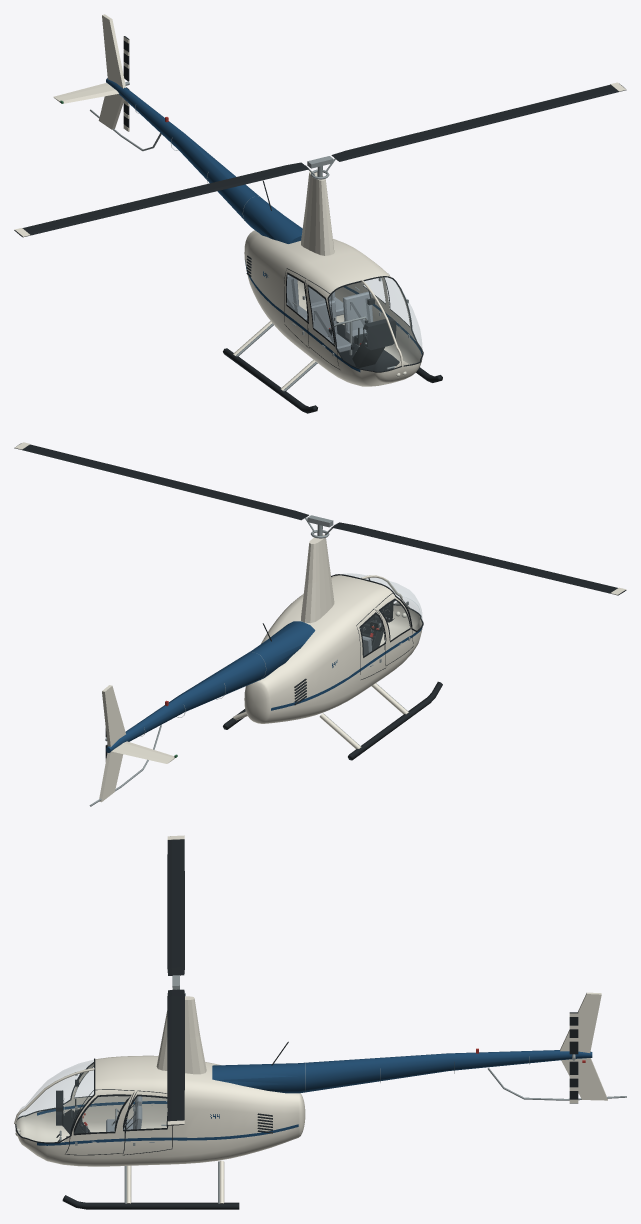
File: r44-molen-raven-ii.glb
The picture shows the model from 3 angles, top to bottom: view 1: azimuth 30°, elevation 25°; view 2: azimuth 150°, elevation 25°; view 3: azimuth 270°, elevation 25°; orthographic projection. The views are drawn at different scales.
Visible parts, largest first — view 1: R44-shell-R44-ivory, R44-shell-R44-glass, R44-shell-R44-deep-blue, main-rotor-blade-release-1-0, main-rotor-blade-release--1-0, R44-shell-R44-trim, R44-cabin-R44-gray-leather, R44-cabin-R44-trim, R44-shell-R44-metal; view 2: R44-shell-R44-ivory, R44-shell-R44-deep-blue, main-rotor-blade-release-1-0, R44-shell-R44-trim, main-rotor-blade-release--1-0, R44-shell-R44-glass; view 3: R44-shell-R44-ivory, R44-shell-R44-deep-blue, R44-shell-R44-glass, R44-shell-R44-trim, main-rotor-blade-release--1-0, main-rotor-blade-release-1-0, R44-shell-R44-metal.
Boxes of the visible parts, <box> form: R44-shell-R44-ivory: <box>53,14,422,390</box>; R44-shell-R44-glass: <box>287,275,422,370</box>; R44-shell-R44-deep-blue: <box>106,78,422,371</box>; main-rotor-blade-release-1-0: <box>352,83,626,156</box>; main-rotor-blade-release--1-0: <box>14,166,288,237</box>; R44-shell-R44-trim: <box>223,180,442,413</box>; R44-cabin-R44-gray-leather: <box>286,274,373,352</box>; R44-cabin-R44-trim: <box>336,290,399,371</box>; R44-shell-R44-metal: <box>90,105,409,391</box>; R44-shell-R44-ivory: <box>99,534,422,802</box>; R44-shell-R44-deep-blue: <box>106,621,422,752</box>; main-rotor-blade-release-1-0: <box>14,443,287,514</box>; R44-shell-R44-trim: <box>223,574,442,760</box>; main-rotor-blade-release--1-0: <box>352,526,626,595</box>; R44-shell-R44-glass: <box>344,573,422,654</box>; R44-shell-R44-ivory: <box>14,992,607,1203</box>; R44-shell-R44-deep-blue: <box>37,1050,592,1145</box>; R44-shell-R44-glass: <box>16,1060,166,1141</box>; R44-shell-R44-trim: <box>15,1041,288,1209</box>; main-rotor-blade-release--1-0: <box>167,839,184,965</box>; main-rotor-blade-release-1-0: <box>167,999,184,1125</box>; R44-shell-R44-metal: <box>75,1056,626,1203</box>.
Bounding box in the file's own units: 10.06 × 3.23 × 9.02.
Materials: 26 (9 with a texture image).
